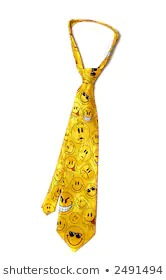F_tie: (30, 15, 129, 256)
